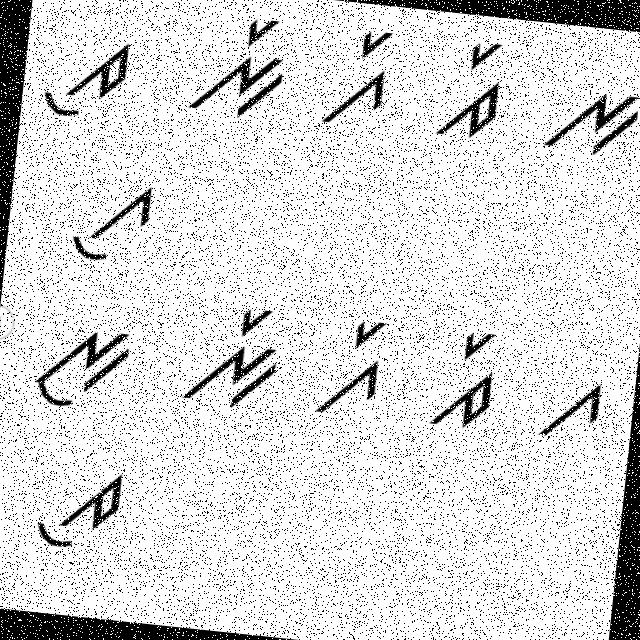ga: (530, 362, 608, 450)
gar: (308, 12, 400, 135), (307, 313, 391, 432)
gaw: (60, 174, 163, 272)
nga: (538, 66, 639, 165)
ngar: (173, 2, 294, 138), (172, 294, 290, 423)
ngaw: (26, 310, 140, 415)
tar: (424, 322, 506, 436), (432, 33, 510, 144)
taw: (37, 21, 142, 140), (22, 452, 126, 556)
